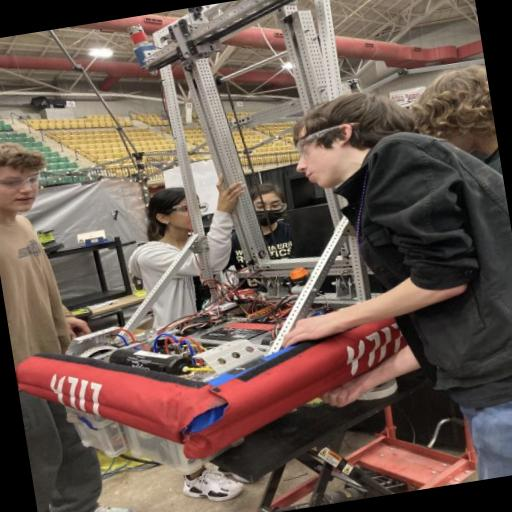robot: (0, 0, 503, 491)
